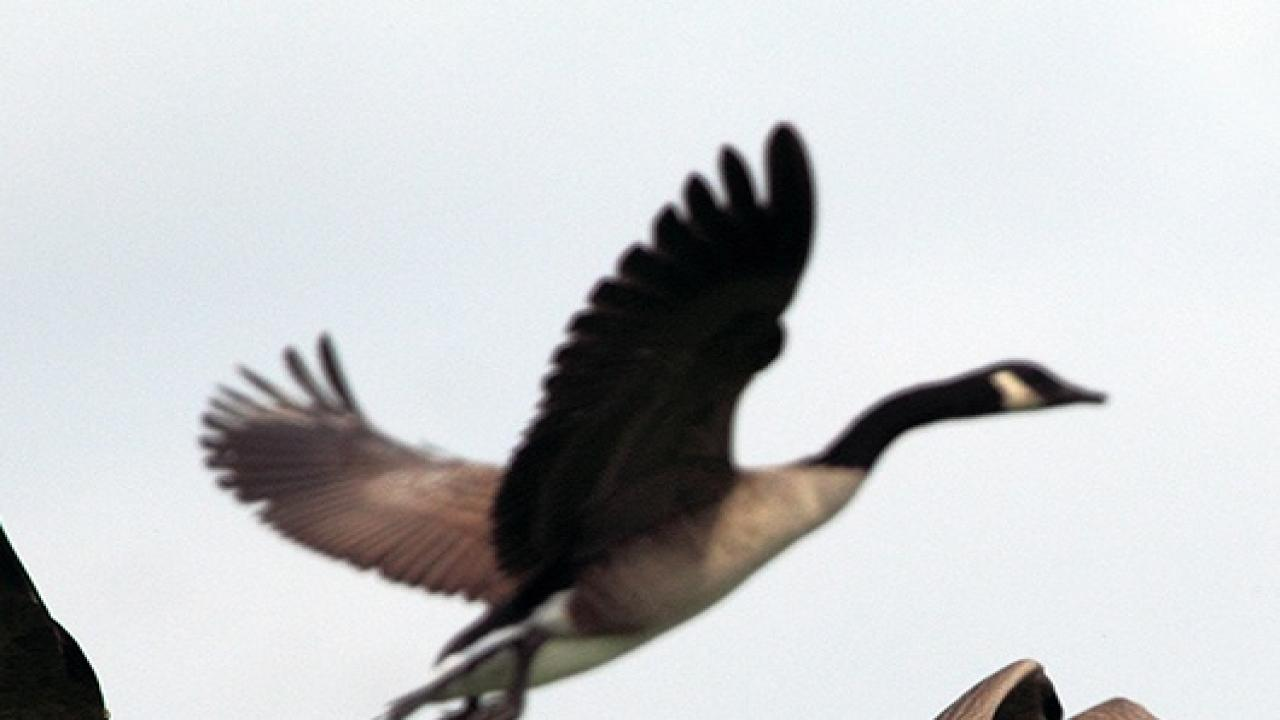Bird: (180, 104, 1120, 720)
